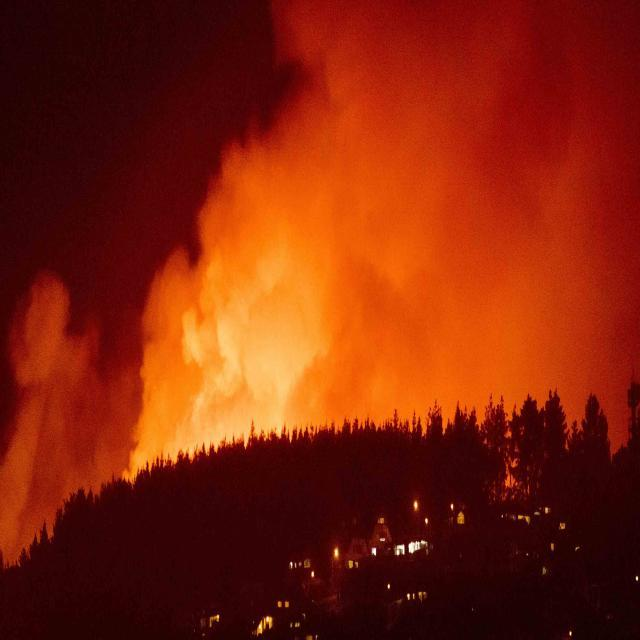Smoke: (120, 0, 640, 486), (0, 230, 121, 578)
